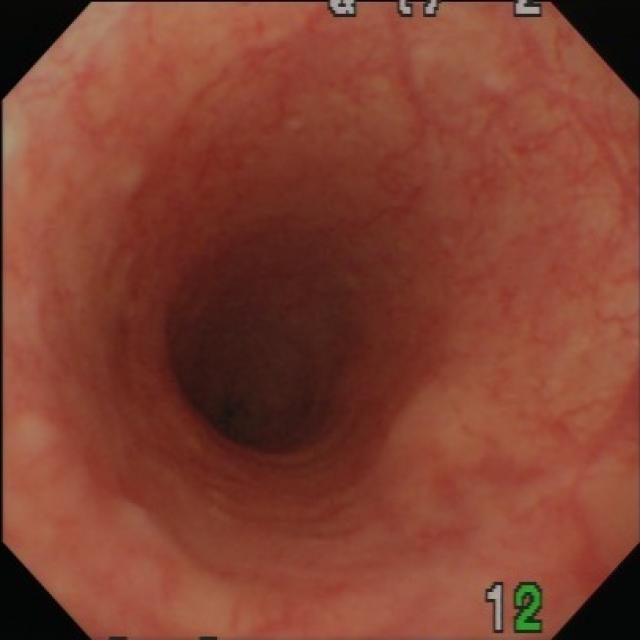E: (158, 277, 352, 463)
S: (485, 581, 547, 636), (325, 3, 545, 18)
